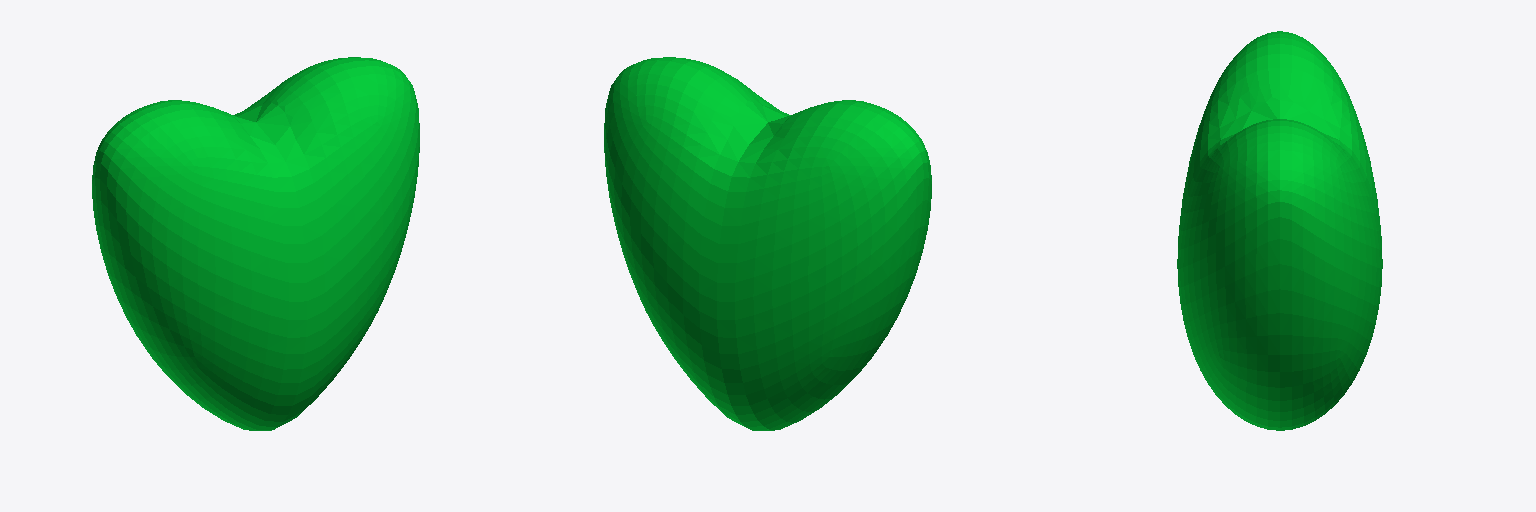
The model's file is cuteheart.obj.
The picture shows the model from 3 angles: view 1: azimuth 30°, elevation 25°; view 2: azimuth 150°, elevation 25°; view 3: azimuth 270°, elevation 25°; orthographic projection.
Visible parts, largest first — view 1: Cube_Cube.001; view 2: Cube_Cube.001; view 3: Cube_Cube.001.
Boxes of the visible parts, x1=… form: Cube_Cube.001: x1=92, y1=57, x2=419, y2=430; Cube_Cube.001: x1=604, y1=57, x2=931, y2=430; Cube_Cube.001: x1=1177, y1=31, x2=1382, y2=430.
Bounding box in the file's own units: 1.97 × 2.06 × 1.12.